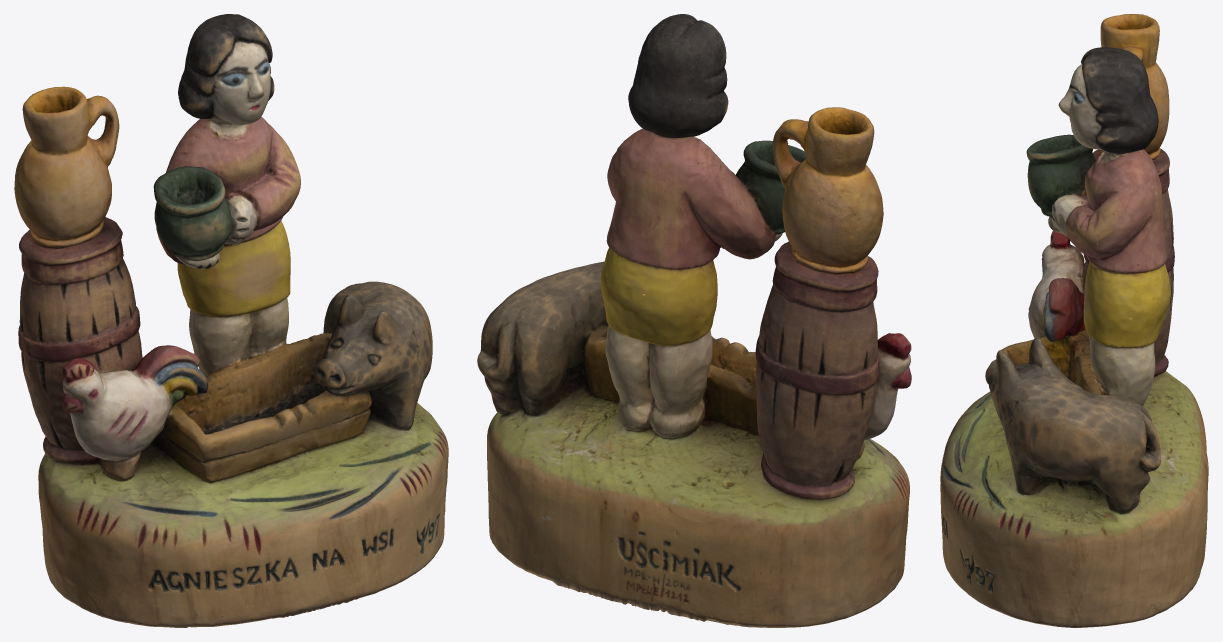
Rendered from MPLW_E_1212_lowpoly.glb.
3 views of the same model, side by side, from view 1: azimuth 30°, elevation 25°; view 2: azimuth 150°, elevation 25°; view 3: azimuth 270°, elevation 25° (orthographic). The views are drawn at different scales.
Parts seen in each view (by area): view 1: MPLW_E_1212_lowpoly; view 2: MPLW_E_1212_lowpoly; view 3: MPLW_E_1212_lowpoly.
Boxes of the visible parts, box(x1,y1,x2,y2) form: MPLW_E_1212_lowpoly: box(14, 14, 448, 627); MPLW_E_1212_lowpoly: box(477, 14, 911, 627); MPLW_E_1212_lowpoly: box(940, 14, 1208, 627).
Bounding box in the file's own units: 0.1835 × 0.2392 × 0.1178.
1 material, 1 textured.
